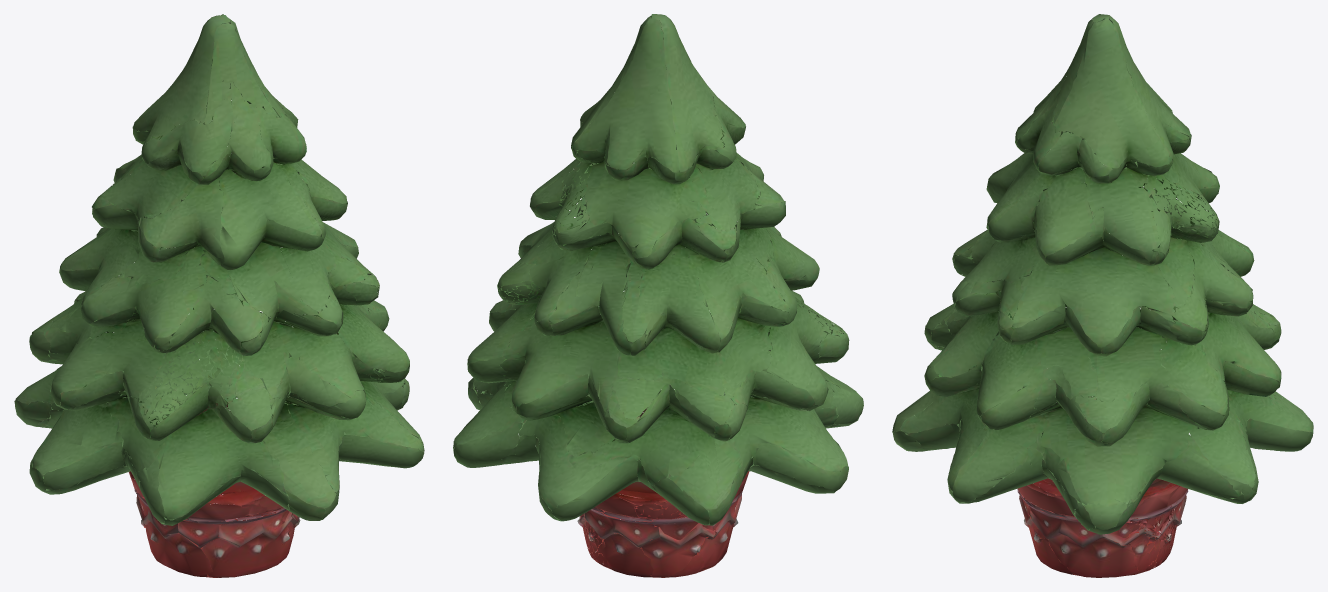
Rendered from tree.glb.
3 renders of one model, left to right at view 1: azimuth 30°, elevation 25°; view 2: azimuth 150°, elevation 25°; view 3: azimuth 270°, elevation 25°, orthographic.
Parts seen in each view (by area): view 1: ChristmasTree; view 2: ChristmasTree; view 3: ChristmasTree.
Boxes of the visible parts, bbox=[...] form: ChristmasTree: bbox=[14, 14, 424, 577]; ChristmasTree: bbox=[453, 14, 863, 577]; ChristmasTree: bbox=[892, 14, 1313, 577].
Bounding box in the file's own units: 1.88 × 2.6 × 1.85.
1 material, 1 textured.
